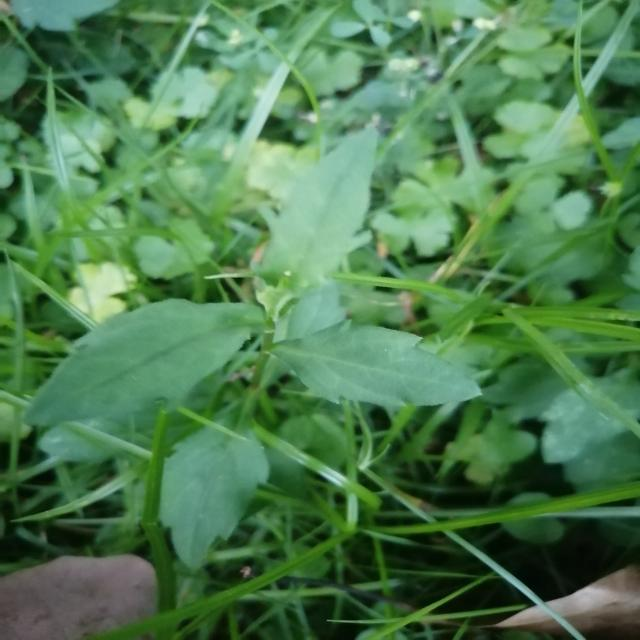Indian aster: (50, 121, 463, 513)
